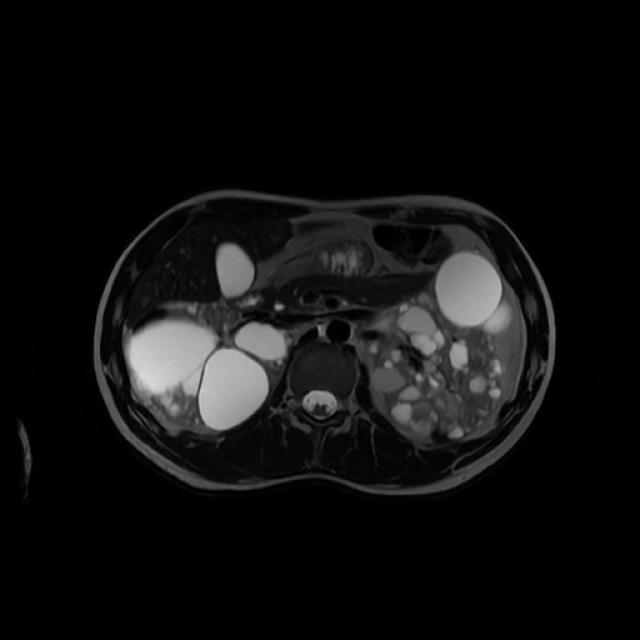sag: (123, 302, 293, 435)
sol: (361, 251, 516, 440)
